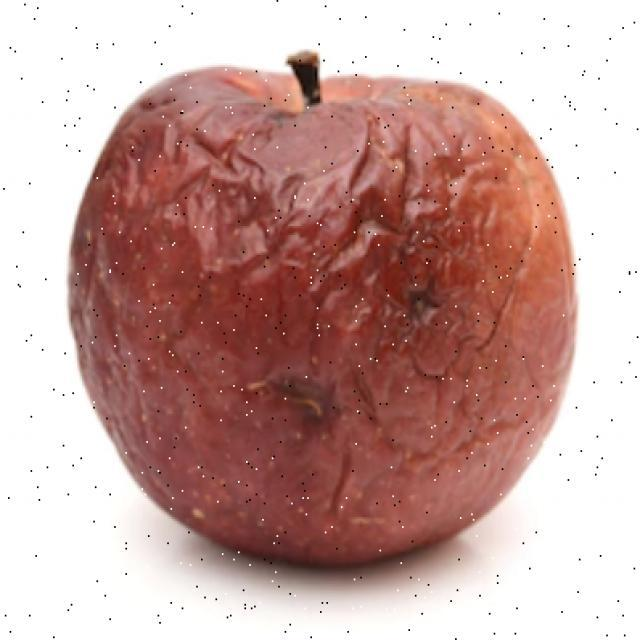Rotten: (92, 66, 560, 592)
